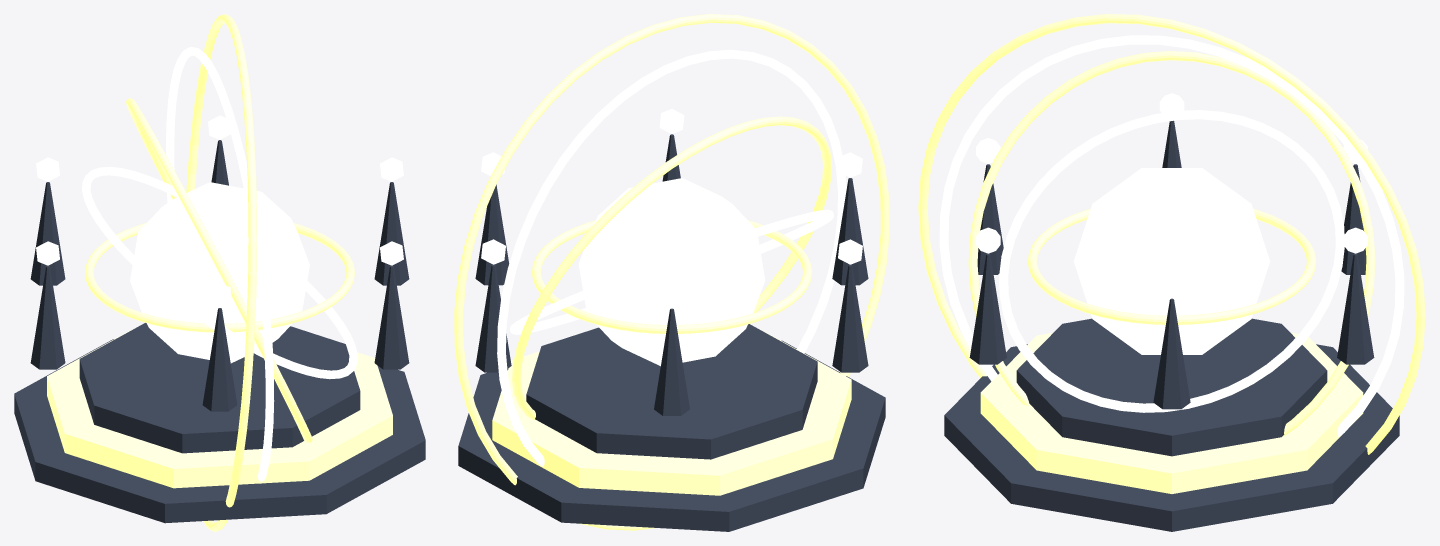
The model's file is gpu-blender-v3.glb.
3 renders of one model, left to right at view 1: azimuth 30°, elevation 25°; view 2: azimuth 150°, elevation 25°; view 3: azimuth 270°, elevation 25°, orthographic. The views are drawn at different scales.
Parts seen in each view (by area): view 1: Cylinder.002, Cylinder, SovereignCore_audiocipher-stego-engine, Cylinder.001, Torus.004, Torus.003, Torus.001, Torus, Torus.002, Cone.004, Cone.003, Cone.005 (+3 smaller); view 2: Cylinder.002, SovereignCore_audiocipher-stego-engine, Cylinder, Cylinder.001, Torus.004, Torus.003, Torus.002, Torus.001, Torus, Cone.003, Cone.002, Cone.001 (+2 smaller); view 3: SovereignCore_audiocipher-stego-engine, Cylinder.002, Cylinder, Cylinder.001, Torus.004, Torus.001, Torus.003, Torus.002, Torus, Cone, Cone.001, Cone.005 (+3 smaller).
Part boxes in pixels (x1=…): Cylinder.002: x1=79, y1=323, x2=360, y2=453; Cylinder: x1=14, y1=339, x2=425, y2=523; SovereignCore_audiocipher-stego-engine: x1=130, y1=182, x2=309, y2=363; Cylinder.001: x1=47, y1=330, x2=392, y2=488; Torus.004: x1=186, y1=14, x2=257, y2=531; Torus.003: x1=165, y1=47, x2=274, y2=483; Torus.001: x1=82, y1=166, x2=357, y2=379; Torus: x1=85, y1=223, x2=354, y2=332; Torus.002: x1=126, y1=98, x2=312, y2=442; Cone.004: x1=202, y1=308, x2=237, y2=411; Cone.003: x1=30, y1=266, x2=65, y2=369; Cone.005: x1=374, y1=266, x2=409, y2=369; Cylinder.002: x1=526, y1=324, x2=817, y2=459; SovereignCore_audiocipher-stego-engine: x1=578, y1=178, x2=765, y2=366; Cylinder: x1=458, y1=340, x2=885, y2=531; Cylinder.001: x1=492, y1=331, x2=851, y2=495; Torus.004: x1=454, y1=14, x2=889, y2=530; Torus.003: x1=497, y1=49, x2=846, y2=466; Torus.002: x1=512, y1=116, x2=831, y2=419; Torus.001: x1=510, y1=209, x2=833, y2=334; Torus: x1=531, y1=220, x2=812, y2=333; Cone.003: x1=832, y1=265, x2=868, y2=372; Cone.002: x1=654, y1=308, x2=689, y2=415; Cone.001: x1=475, y1=265, x2=511, y2=372; SovereignCore_audiocipher-stego-engine: x1=1073, y1=168, x2=1270, y2=354; Cylinder.002: x1=1016, y1=318, x2=1327, y2=456; Cylinder: x1=944, y1=344, x2=1399, y2=531; Cylinder.001: x1=980, y1=332, x2=1363, y2=493; Torus.004: x1=918, y1=14, x2=1425, y2=454; Torus.001: x1=999, y1=110, x2=1344, y2=412; Torus.003: x1=939, y1=35, x2=1404, y2=437; Torus.002: x1=968, y1=51, x2=1375, y2=435; Torus: x1=1027, y1=209, x2=1316, y2=324; Cone: x1=1153, y1=298, x2=1190, y2=409; Cone.001: x1=1337, y1=254, x2=1374, y2=364; Cone.005: x1=969, y1=254, x2=1006, y2=364.
Size of the model in its own units: 4.41 by 5.33 by 4.9.
